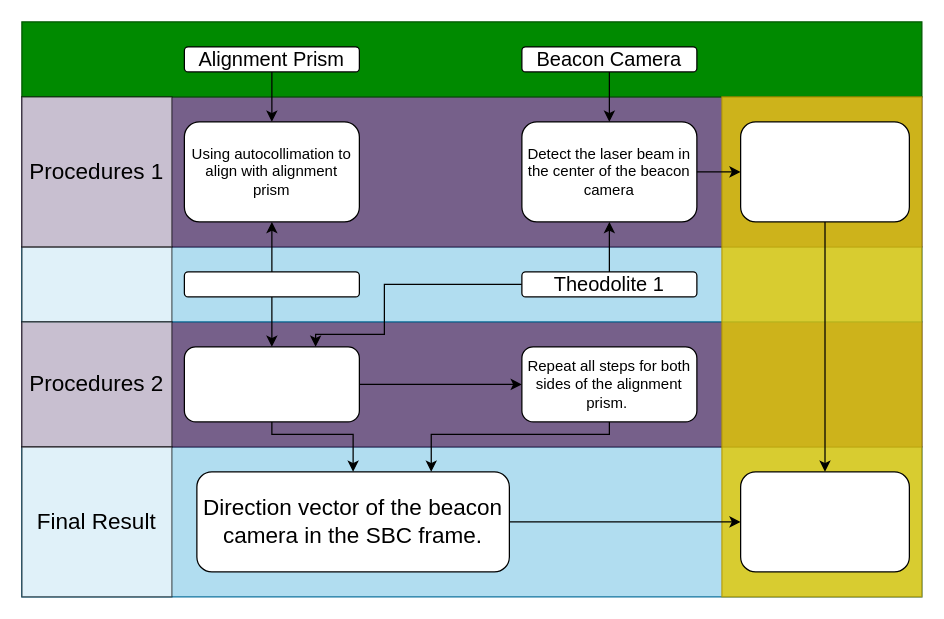
This 944x619 diagram has some shape labels left out. The shapes that lost their labels are listed below. From the top down, each one's centre as x and y in pixels, then its label:
the point at 824,171: Rotations around the azimuthian theodolite axis - detect the yaw angle of the BC
the point at 96,284: Measuring Equipment
the point at 271,284: Theodolite 2
the point at 271,384: Align 2 theodolites using autocollimation
the point at 824,521: DCM of the BC in the SBC frame.
